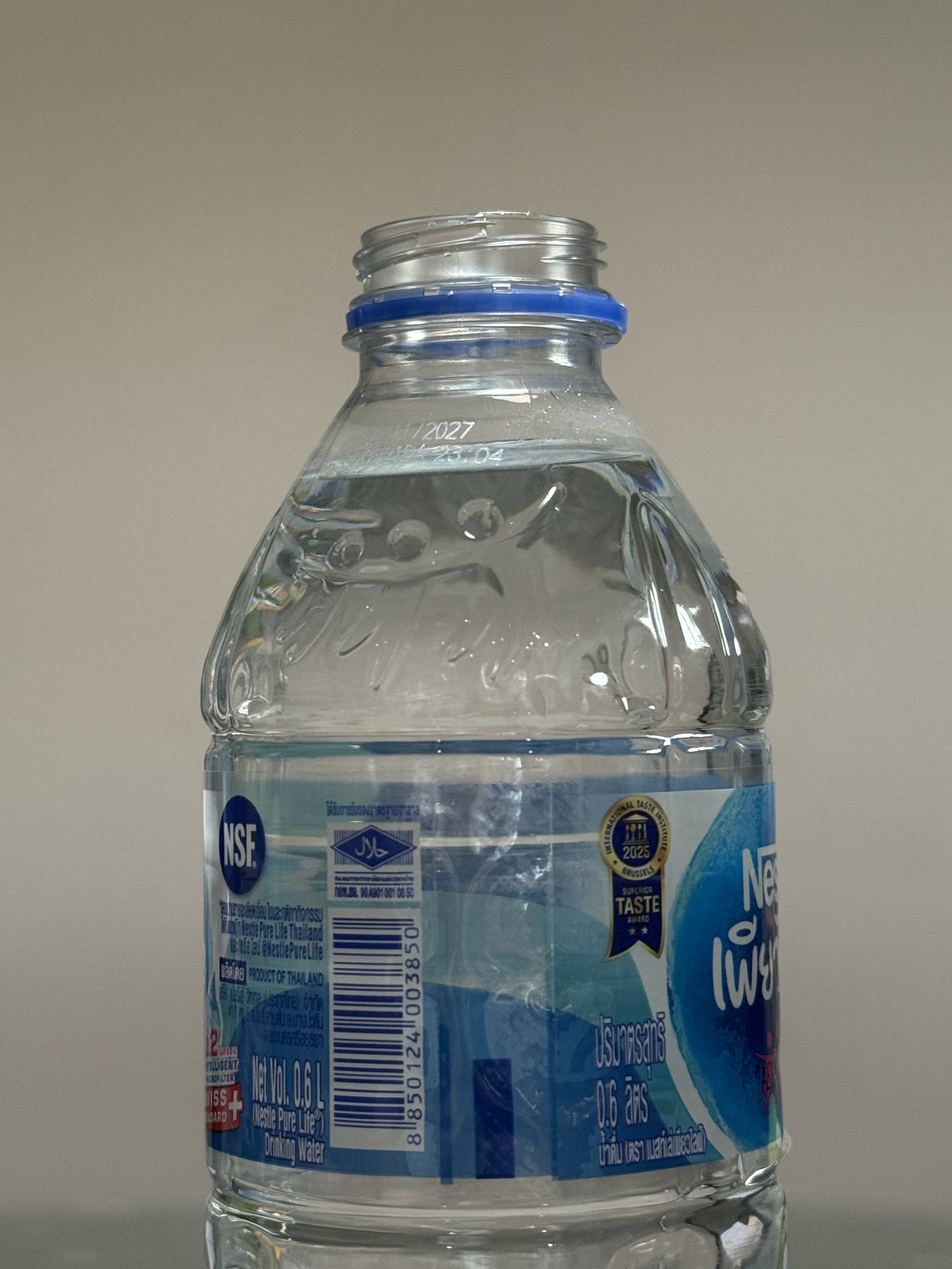no_cap: (344, 206, 630, 337)
